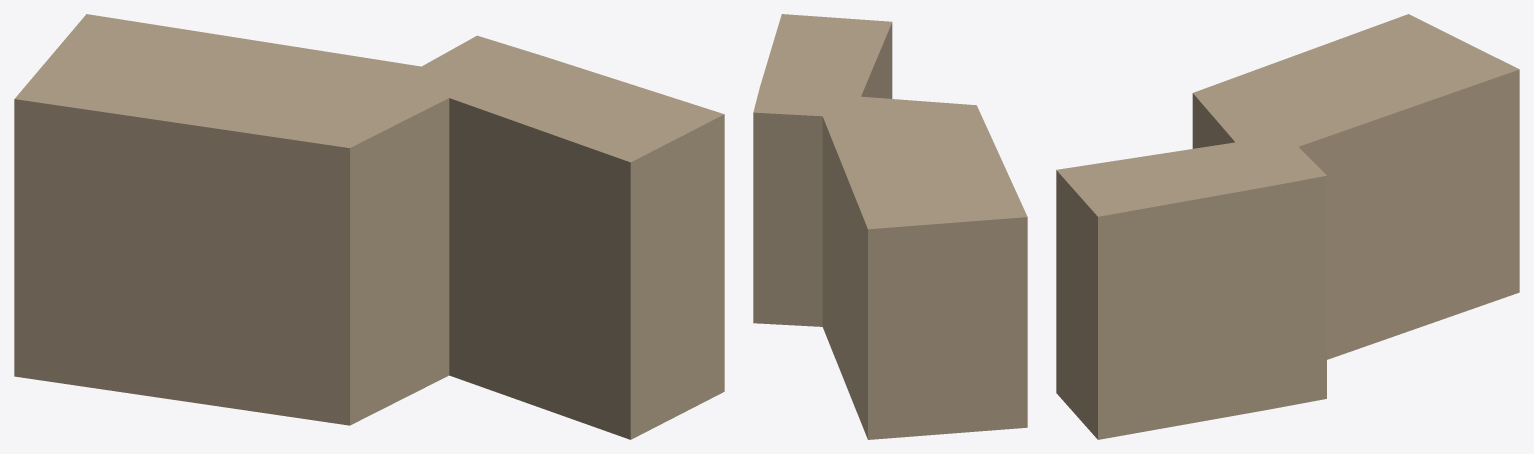
Rendered from bld_99007835.dae.
3 renders of one model, left to right at view 1: azimuth 30°, elevation 25°; view 2: azimuth 150°, elevation 25°; view 3: azimuth 270°, elevation 25°, orthographic. The views are drawn at different scales.
Visible parts, largest first — view 1: bld_99007835; view 2: bld_99007835; view 3: bld_99007835.
Boxes of the visible parts, left/top/right/bottom form: bld_99007835: left=14, top=14, right=724, bottom=439; bld_99007835: left=753, top=14, right=1027, bottom=439; bld_99007835: left=1056, top=14, right=1519, bottom=439.
Size of the model in its own units: 15.6 by 15.06 by 8.
